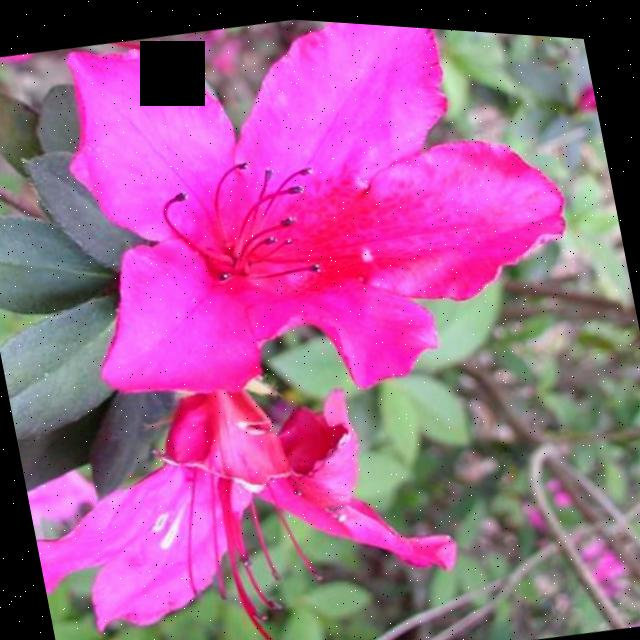azalea: (39, 2, 586, 450), (7, 310, 460, 640)
